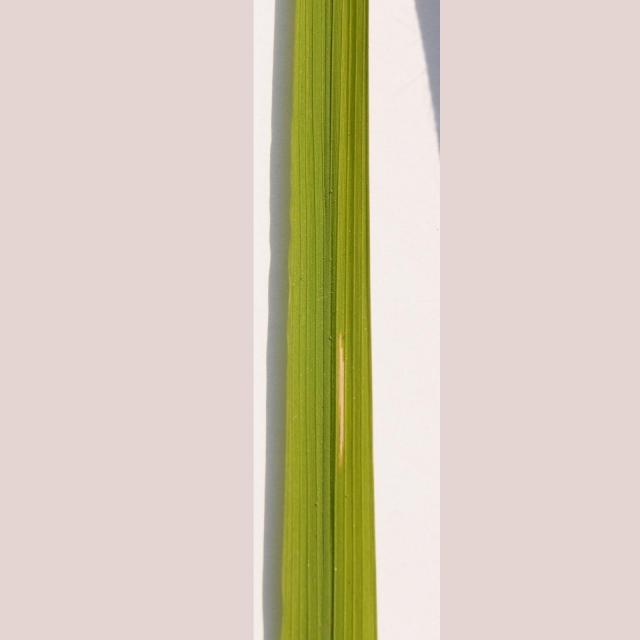leaf blight: (324, 336, 363, 482)
